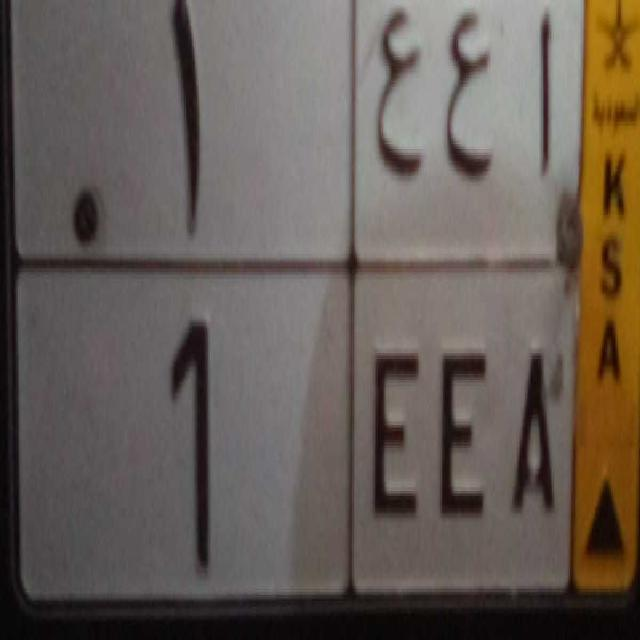license_plate: (11, 262, 574, 604)
